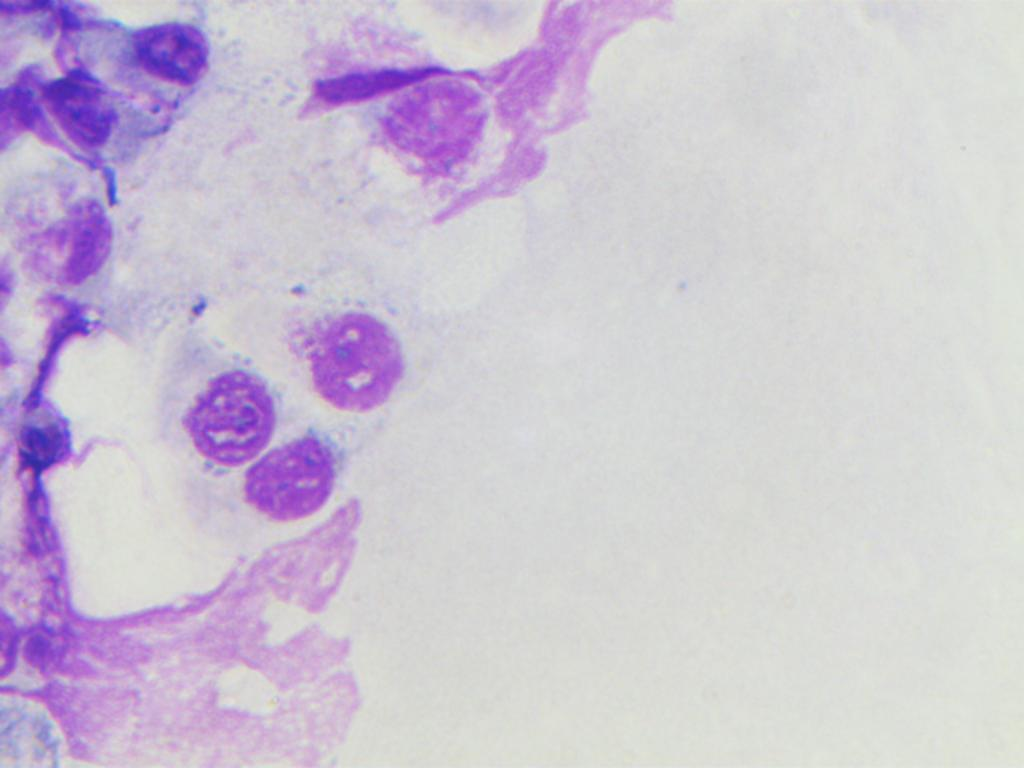epithelial: (307, 14, 492, 171), (272, 272, 420, 415), (163, 309, 276, 473), (228, 423, 383, 530), (12, 183, 123, 296), (119, 15, 219, 103), (33, 67, 124, 151)
